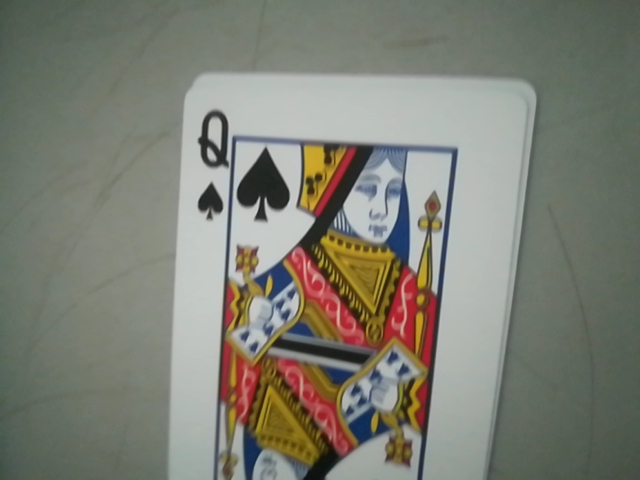ht q: (185, 93, 242, 220)
